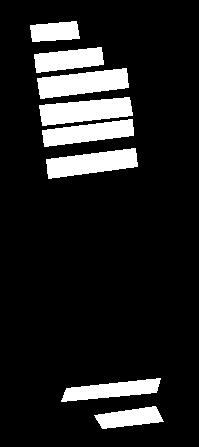parkingspot: (37, 68, 128, 98), (46, 148, 137, 178), (39, 97, 132, 125), (42, 119, 133, 146), (61, 378, 160, 401), (34, 47, 103, 72), (94, 406, 163, 428), (30, 21, 79, 41)
